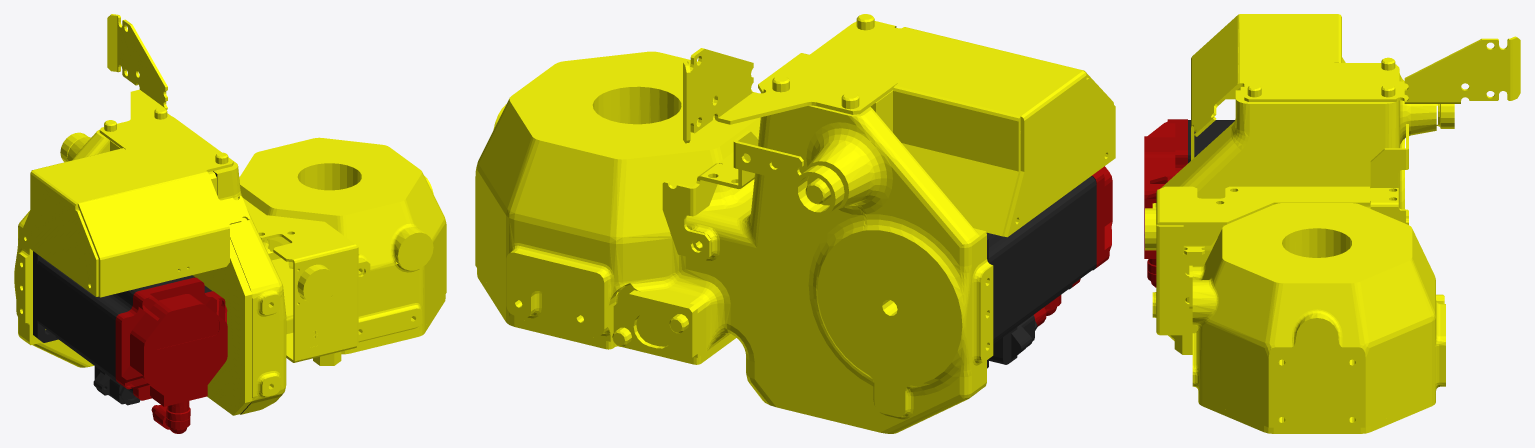
3 renders of one model, left to right at view 1: azimuth 30°, elevation 25°; view 2: azimuth 150°, elevation 25°; view 3: azimuth 270°, elevation 25°, orthographic. The views are drawn at different scales.
Visible parts, largest first — view 1: node; view 2: node; view 3: node.
Boxes of the visible parts, <box> form: node: <box>14,14,446,433</box>; node: <box>475,14,1115,433</box>; node: <box>1144,14,1520,433</box>.
Size of the model in its own units: 345 by 243 by 267.
